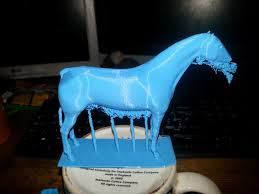Fail: (45, 26, 247, 174)
